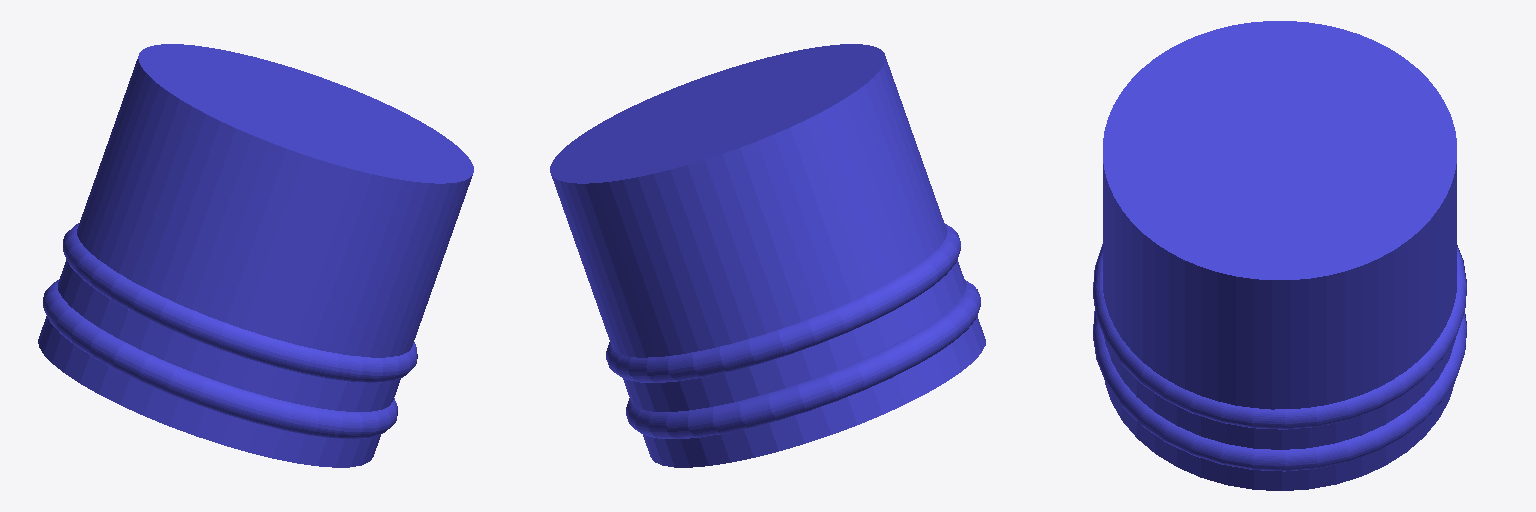
Rendered from bombilla109.obj.
The picture shows the model from 3 angles: view 1: azimuth 30°, elevation 25°; view 2: azimuth 150°, elevation 25°; view 3: azimuth 270°, elevation 25°; orthographic projection.
Visible parts, largest first — view 1: Cylinder001, Cylinder003, Cylinder004, Cylinder006, Cylinder002; view 2: Cylinder001, Cylinder003, Cylinder004, Cylinder006, Cylinder002; view 3: Cylinder001, Cylinder004, Cylinder002, Cylinder003, Cylinder006.
Part boxes in pixels (x1,y1,x2,y2): Cylinder001: (77,44,473,357); Cylinder003: (58,259,400,411); Cylinder004: (43,280,397,439); Cylinder006: (38,316,380,467); Cylinder002: (63,223,417,382); Cylinder001: (550,44,946,357); Cylinder003: (623,260,965,411); Cylinder004: (626,280,980,438); Cylinder006: (643,316,985,467); Cylinder002: (606,224,960,382); Cylinder001: (1103,21,1456,409); Cylinder004: (1093,311,1466,471); Cylinder002: (1093,244,1466,429); Cylinder003: (1104,338,1455,449); Cylinder006: (1105,379,1455,490).
Size of the model in its own units: 85.76 by 80.87 by 72.21.